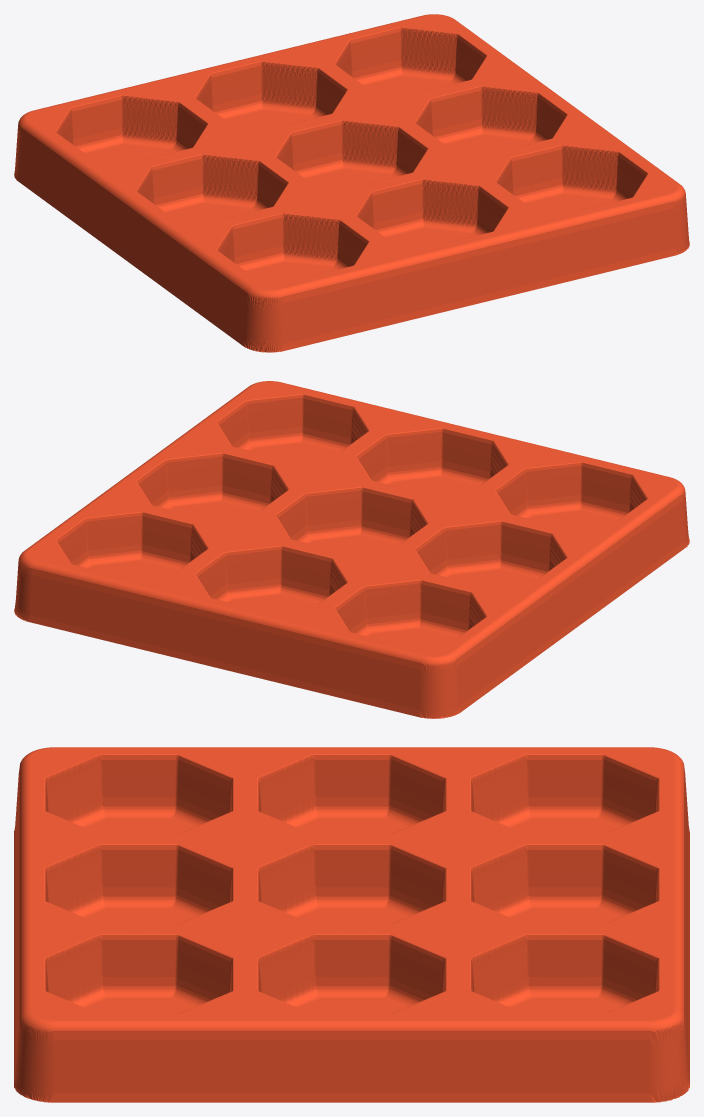
File: mold.glb
3 renders of one model, top to bottom at view 1: azimuth 30°, elevation 25°; view 2: azimuth 150°, elevation 25°; view 3: azimuth 270°, elevation 25°, orthographic. The views are drawn at different scales.
Parts seen in each view (by area): view 1: geometry_0; view 2: geometry_0; view 3: geometry_0.
Boxes of the visible parts, x1,y1,x2,y2 form: geometry_0: [14, 14, 689, 352]; geometry_0: [14, 381, 689, 718]; geometry_0: [14, 747, 689, 1102].
Size of the model in its own units: 0.1499 by 0.0185 by 0.1499.
